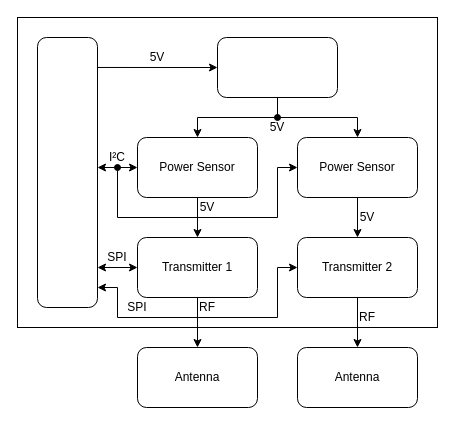
This 455x425 diagram has some shape labels left out. Each missing label, with the centre of its shape:
"Latch-up Protector" belongs at point (277, 67).
"Radio Transmitters Bus" belongs at point (67, 172).
